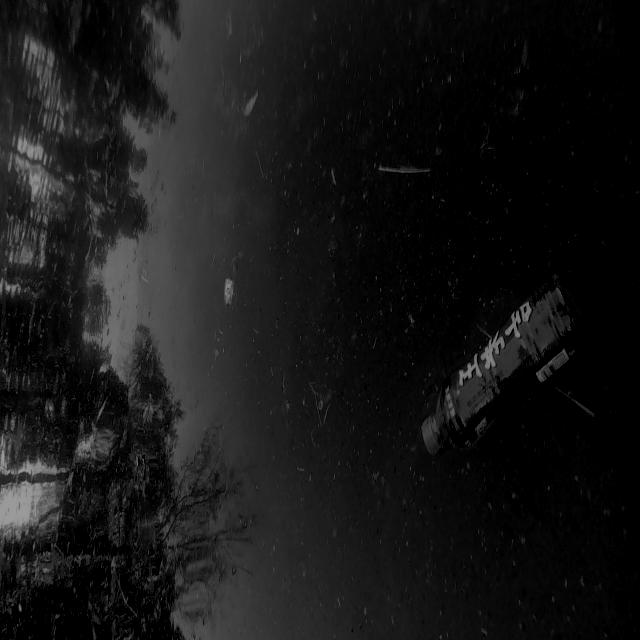bottle: (391, 267, 593, 465)
